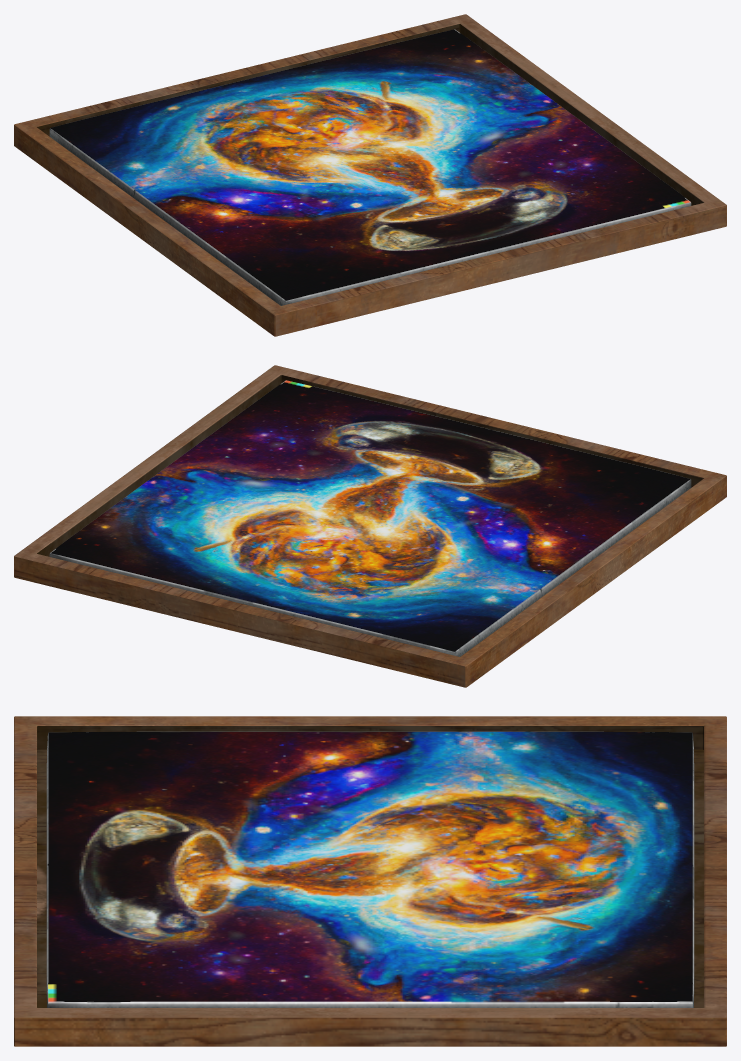
Rendered from GG_Level1_Asset_CafeArt6_006.fbx.
3 renders of one model, top to bottom at view 1: azimuth 30°, elevation 25°; view 2: azimuth 150°, elevation 25°; view 3: azimuth 270°, elevation 25°, orthographic. The views are drawn at different scales.
Visible parts, largest first — view 1: Original_frame1_cafe; view 2: Original_frame1_cafe; view 3: Original_frame1_cafe.
Boxes of the visible parts, x1,y1,x2,y2 form: Original_frame1_cafe: [14, 14, 726, 336]; Original_frame1_cafe: [14, 365, 726, 687]; Original_frame1_cafe: [14, 716, 726, 1046].
Size of the model in its own units: 738 by 35.17 by 738.
1 material, 1 textured.
